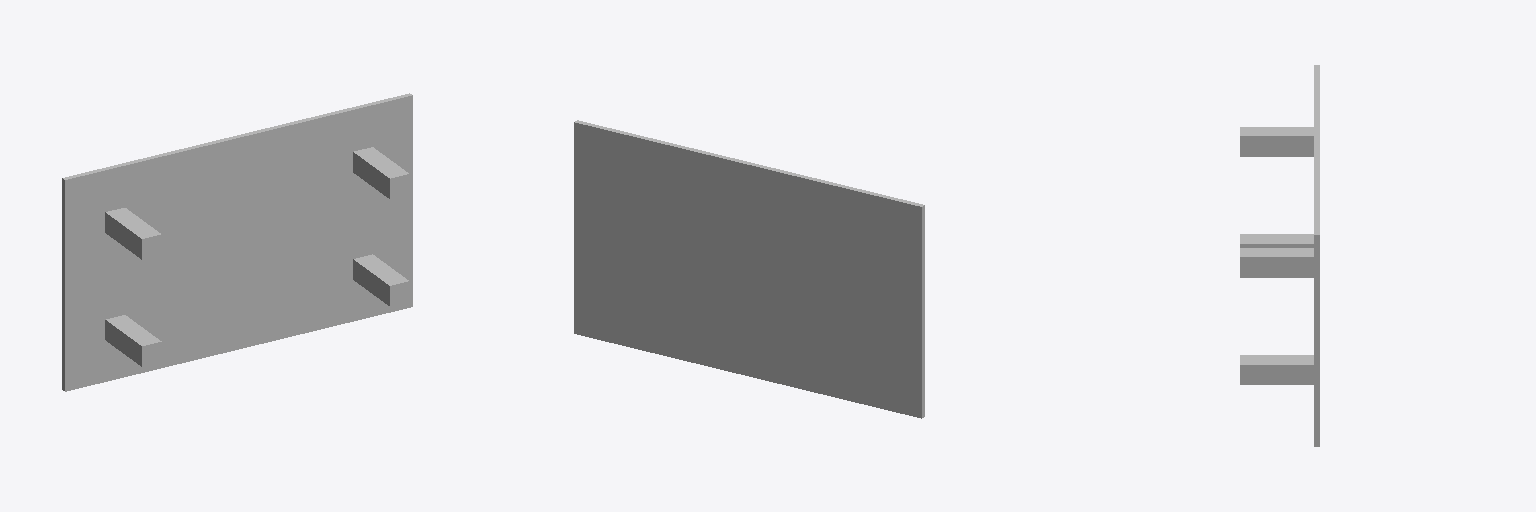
The model's file is random_table95.obj.
3 views of the same model, side by side, from view 1: azimuth 30°, elevation 25°; view 2: azimuth 150°, elevation 25°; view 3: azimuth 270°, elevation 25° (orthographic).
Parts seen in each view (by area): view 1: Table_Cube.1540, TableLeg1_Cube.1542, TableLeg0_Cube.1541, TableLeg2_Cube.1543, TableLeg3_Cube.1544; view 2: Table_Cube.1540; view 3: Table_Cube.1540, TableLeg0_Cube.1541, TableLeg1_Cube.1542, TableLeg2_Cube.1543, TableLeg3_Cube.1544.
Boxes of the visible parts, <box> form: Table_Cube.1540: <box>62,93,412,391</box>; TableLeg1_Cube.1542: <box>105,208,161,259</box>; TableLeg0_Cube.1541: <box>353,147,409,198</box>; TableLeg2_Cube.1543: <box>353,254,409,306</box>; TableLeg3_Cube.1544: <box>105,315,161,366</box>; Table_Cube.1540: <box>574,120,924,418</box>; Table_Cube.1540: <box>1314,65,1319,446</box>; TableLeg0_Cube.1541: <box>1240,248,1313,277</box>; TableLeg1_Cube.1542: <box>1240,127,1313,156</box>; TableLeg2_Cube.1543: <box>1240,355,1313,384</box>; TableLeg3_Cube.1544: <box>1240,234,1313,247</box>.
Size of the model in its own units: 8.32 by 4.84 by 1.64.